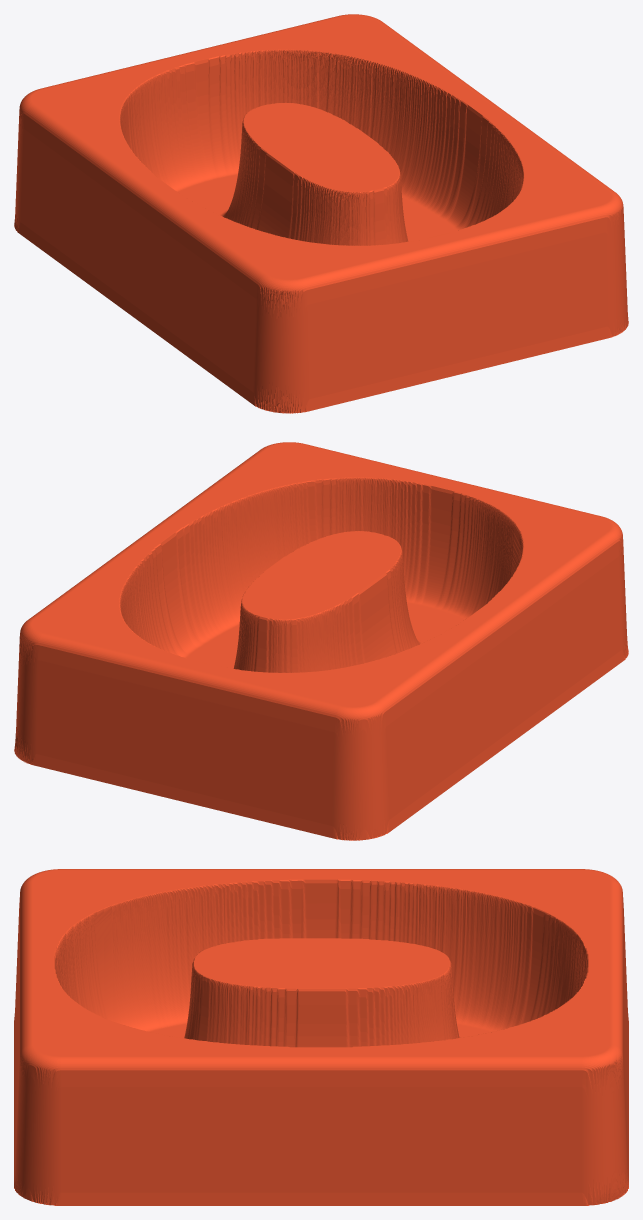
File: mold.glb
3 views of the same model, one above another, from view 1: azimuth 30°, elevation 25°; view 2: azimuth 150°, elevation 25°; view 3: azimuth 270°, elevation 25° (orthographic). The views are drawn at different scales.
Parts seen in each view (by area): view 1: geometry_0; view 2: geometry_0; view 3: geometry_0.
Part boxes in pixels (x1,y1,x2,y2): geometry_0: (14,14,628,413); geometry_0: (14,442,628,840); geometry_0: (14,869,628,1205).
Size of the model in its own units: 0.0916 by 0.0299 by 0.1178.
